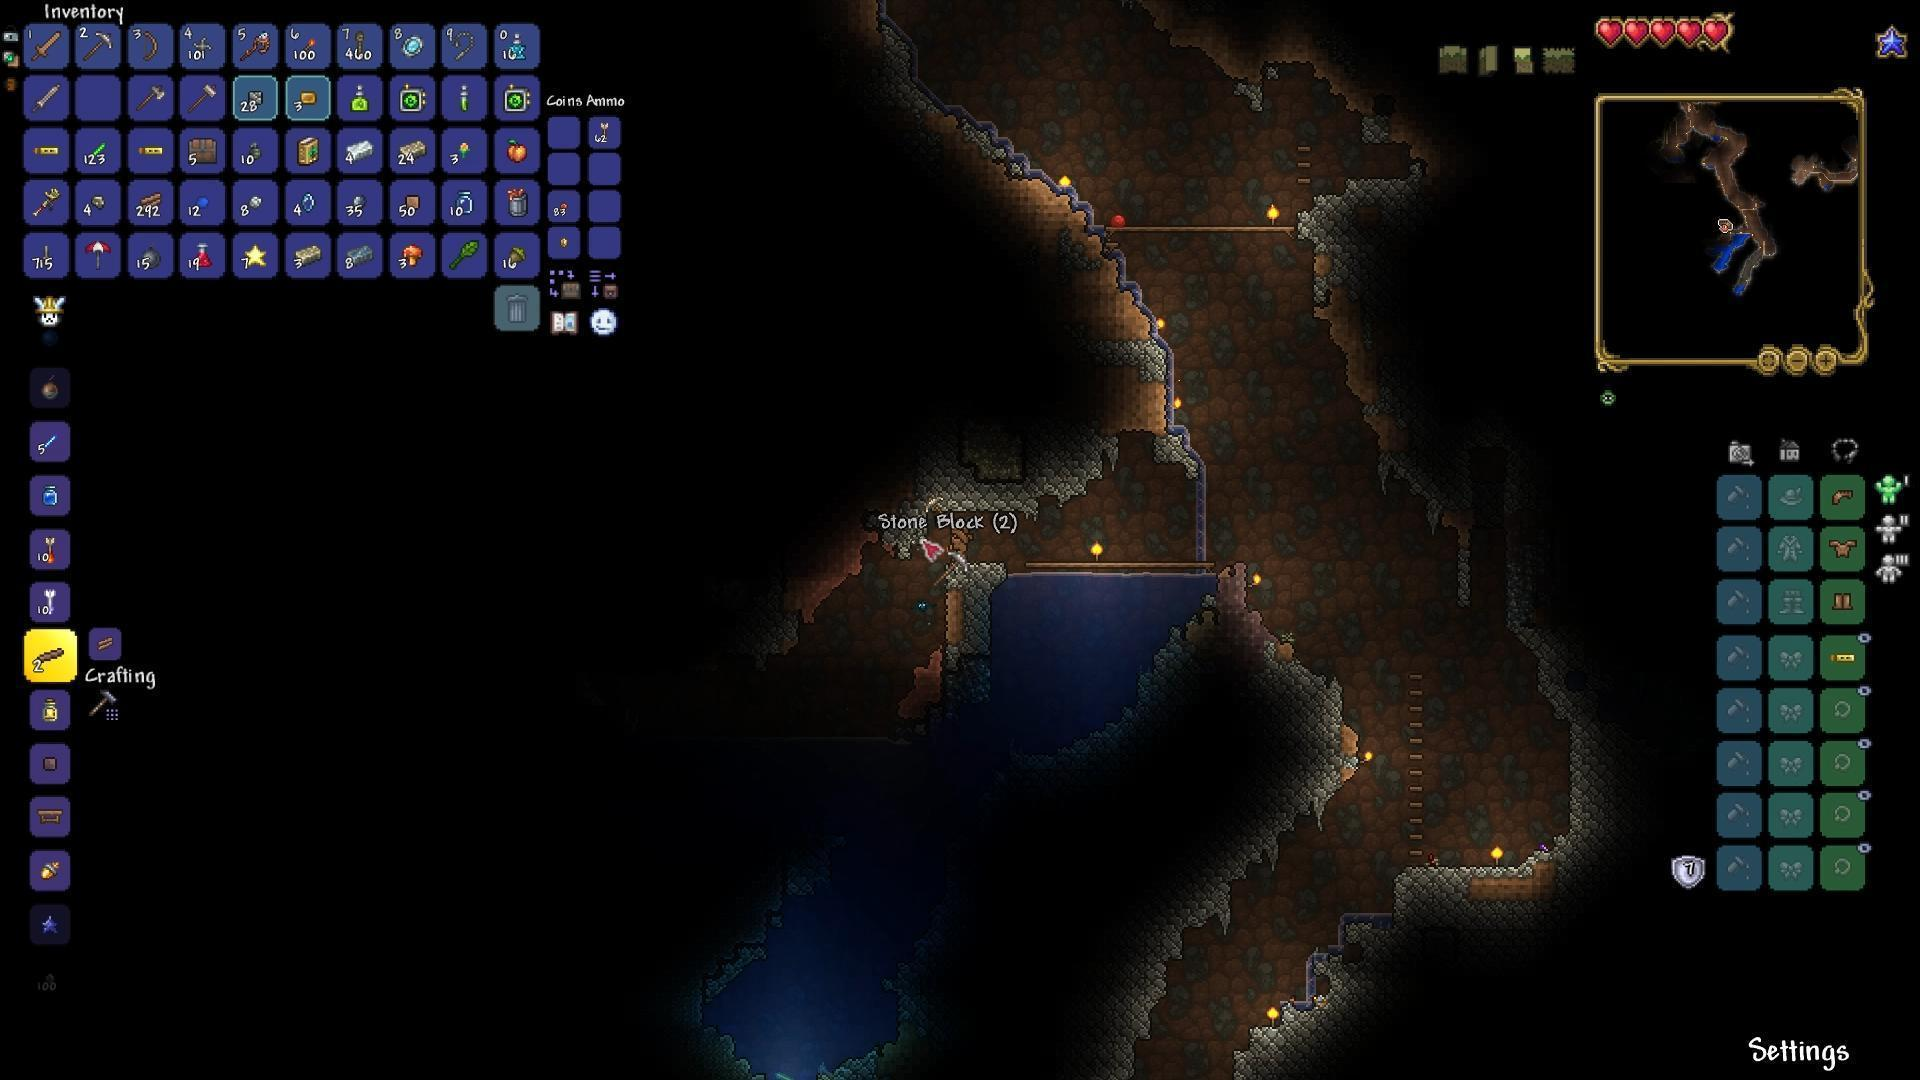arrow: (599, 120, 612, 142), (46, 585, 55, 616)
axe: (135, 84, 167, 111)
bar: (345, 239, 375, 268), (297, 240, 322, 269), (343, 137, 377, 158), (397, 137, 426, 161)
bomb: (140, 243, 165, 272)
bow: (142, 29, 158, 62)
breastplate: (1829, 535, 1861, 560)
gel: (194, 193, 211, 208)
glowstick: (87, 141, 108, 161)
grenade: (248, 138, 262, 162)
heart: (1594, 17, 1625, 47)
helmet: (1829, 487, 1855, 509)
knife: (41, 243, 50, 266)
legs: (1832, 589, 1854, 613)
lens: (298, 187, 315, 215)
ore: (87, 189, 112, 215), (247, 193, 266, 212), (349, 193, 371, 211)
pickaxe: (80, 30, 117, 61)
platform: (36, 644, 66, 665)
recallP: (509, 33, 530, 62)
rope: (353, 29, 367, 61)
shuriken: (190, 36, 214, 58)
star: (240, 243, 269, 268)
sword: (29, 80, 65, 116), (30, 30, 62, 65)
wood: (137, 189, 167, 215), (96, 634, 113, 651)
